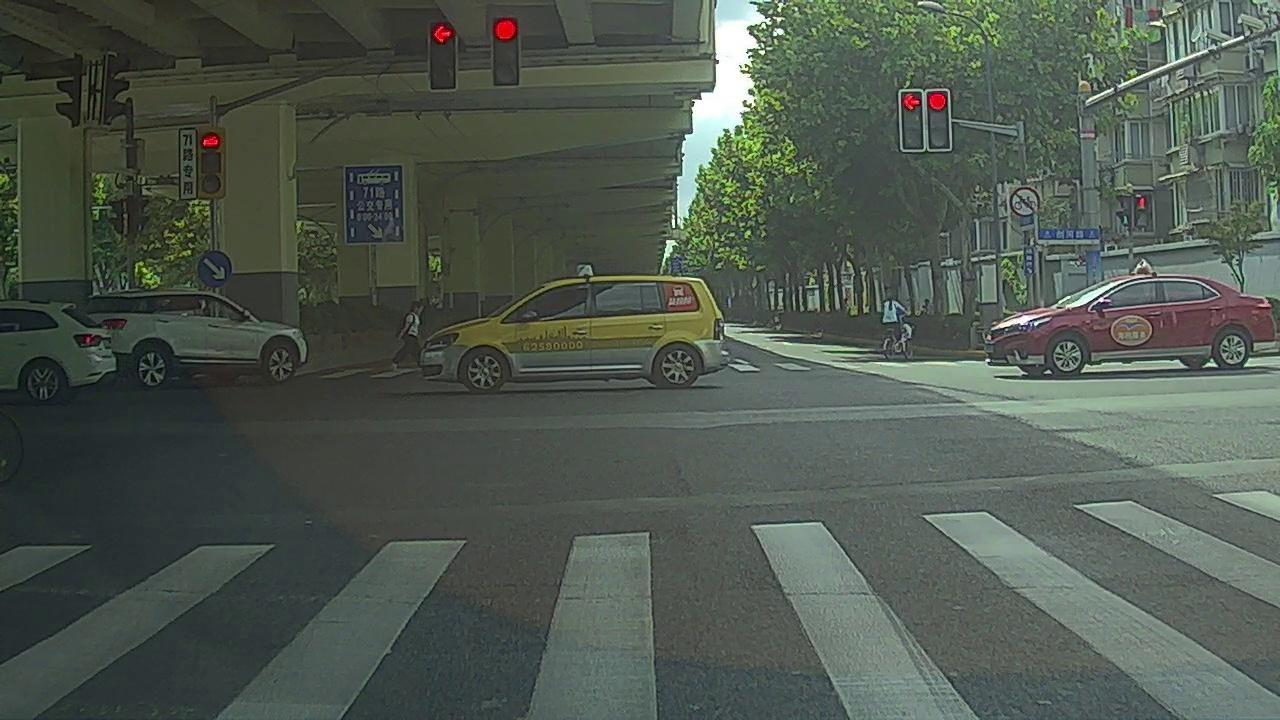traffic_light: (899, 89, 928, 149), (432, 21, 457, 90), (493, 16, 518, 85), (926, 87, 950, 148)
